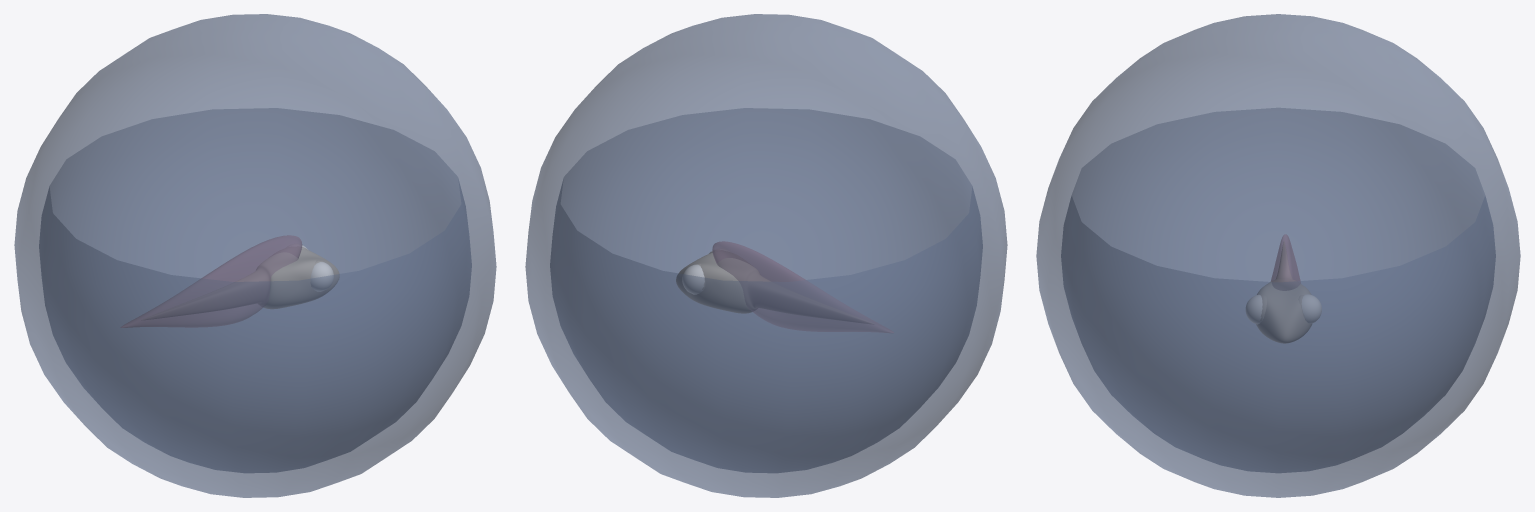
The model's file is huevoF.fbx.
3 views of the same model, side by side, from view 1: azimuth 30°, elevation 25°; view 2: azimuth 150°, elevation 25°; view 3: azimuth 270°, elevation 25° (orthographic).
Parts seen in each view (by area): view 1: pSphere16, pSphere18, pasted__polySurface6, pCube3, pasted__polySurface10; view 2: pSphere16, pSphere18, pasted__polySurface6, pCube3, pasted__polySurface3; view 3: pSphere16, pSphere18, pCube3, pasted__polySurface6.
Boxes of the visible parts, x1=… form: pSphere16: x1=14, y1=14, x2=496, y2=497; pSphere18: x1=39, y1=108, x2=471, y2=472; pasted__polySurface6: x1=121, y1=235, x2=302, y2=327; pCube3: x1=143, y1=249, x2=339, y2=319; pasted__polySurface10: x1=310, y1=260, x2=333, y2=291; pSphere16: x1=525, y1=14, x2=1007, y2=497; pSphere18: x1=550, y1=108, x2=982, y2=472; pasted__polySurface6: x1=712, y1=241, x2=893, y2=332; pCube3: x1=676, y1=252, x2=872, y2=323; pasted__polySurface3: x1=682, y1=263, x2=704, y2=294; pSphere16: x1=1036, y1=14, x2=1520, y2=497; pSphere18: x1=1061, y1=108, x2=1495, y2=472; pCube3: x1=1256, y1=241, x2=1311, y2=343; pasted__polySurface6: x1=1271, y1=234, x2=1300, y2=290.
Size of the model in its own units: 30.45 by 30.45 by 30.45.
